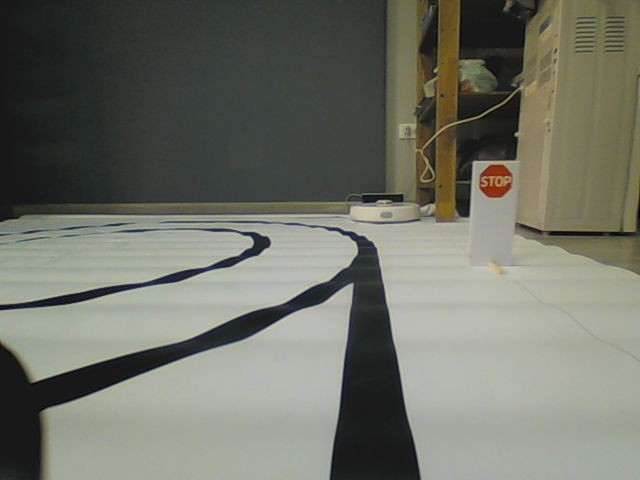Stop: (478, 163, 514, 198)
